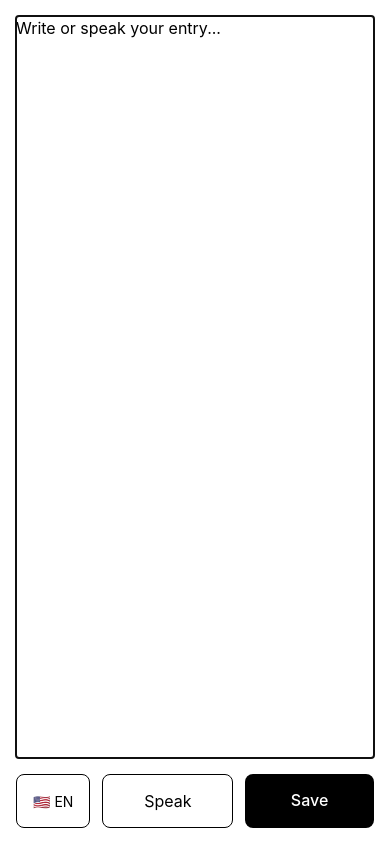
Test: CreateEntryScreen › toggles language back from Italian to English
This screenshot has width=390, height=844.
Click the text "🇺🇸 EN" at x=53, y=801, box [33,792,73,810]
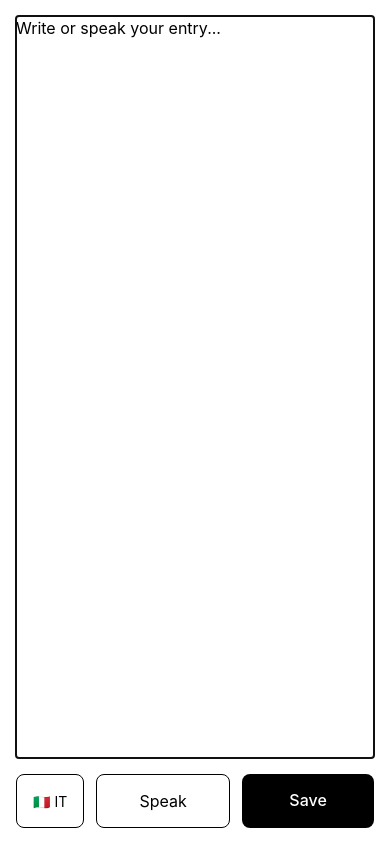
Check: the text "🇮🇹 IT" is shown
Click the text "🇮🇹 IT" at x=50, y=801, box [33,792,67,810]
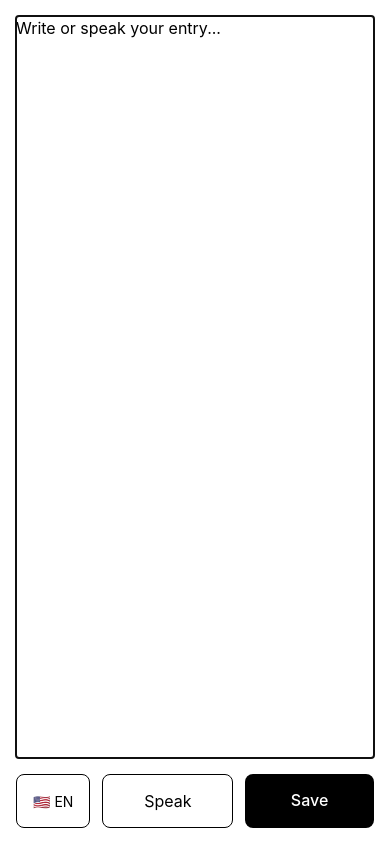
Check: the text "🇺🇸 EN" is shown, box [33,792,73,810]
